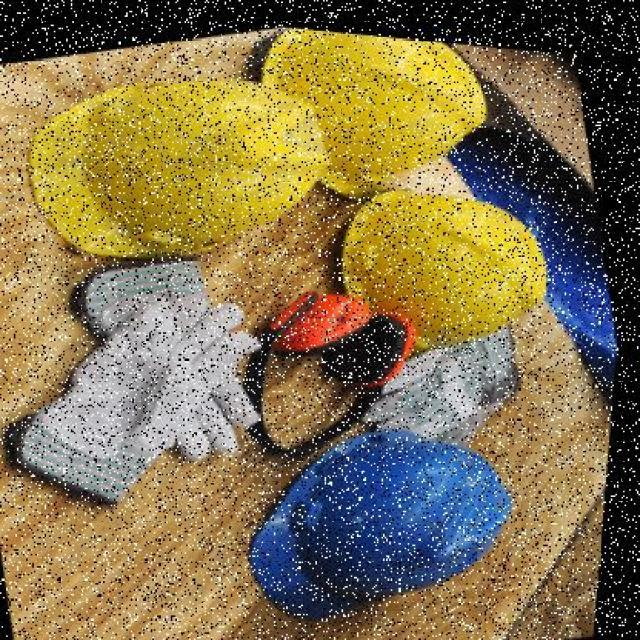helmet: (3, 29, 351, 302), (223, 379, 551, 639), (312, 143, 574, 369), (231, 19, 506, 225)
